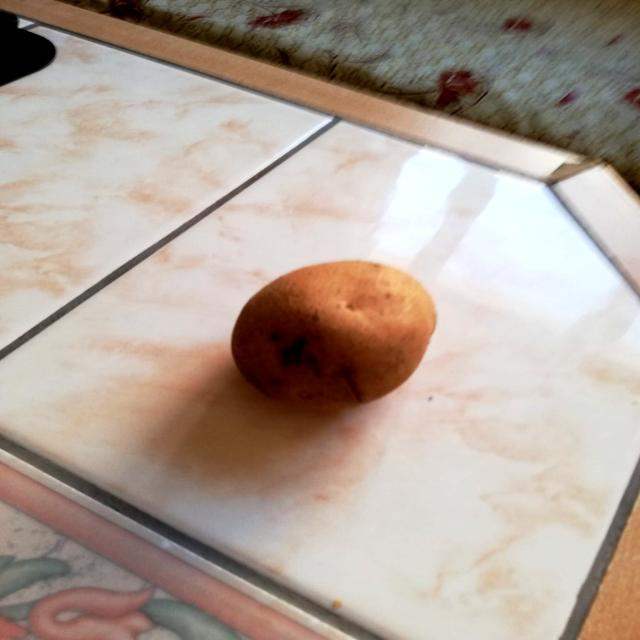potato: (225, 247, 447, 419)
